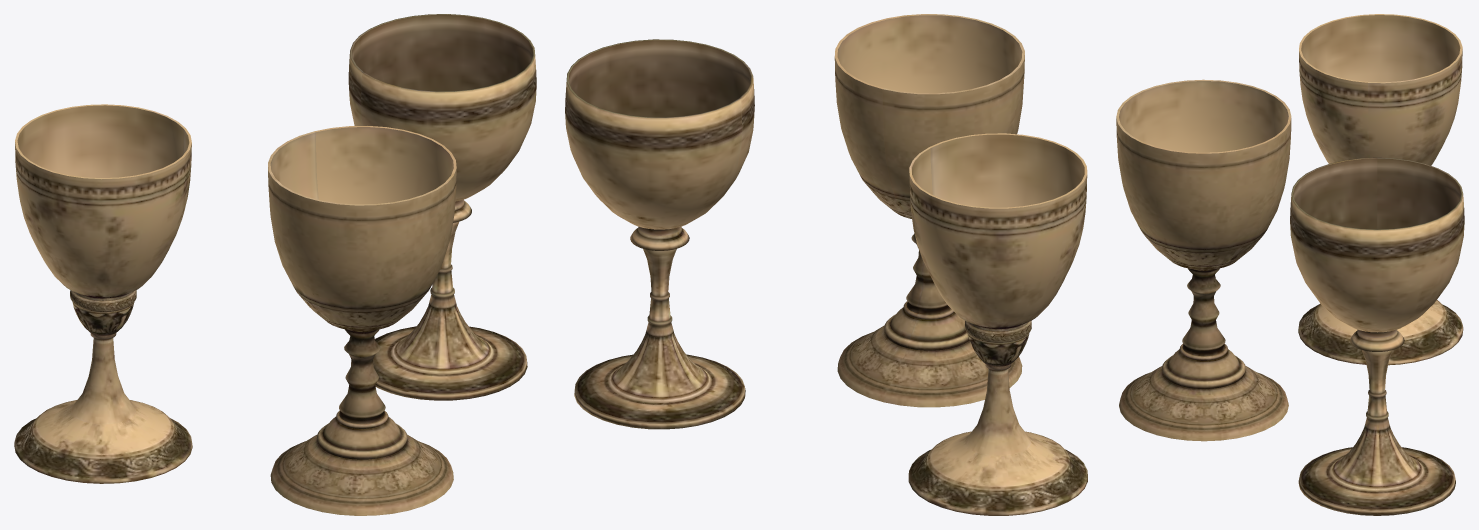
The model's file is brass_goblets.glb.
The picture shows the model from 3 angles, left to right: view 1: azimuth 30°, elevation 25°; view 2: azimuth 150°, elevation 25°; view 3: azimuth 270°, elevation 25°; orthographic projection. The views are drawn at different scales.
Parts seen in each view (by area): view 1: brass_goblet_01, brass_goblet_02, brass_goblet_03; view 2: brass_goblet_02, brass_goblet_03, brass_goblet_01; view 3: brass_goblet_01, brass_goblet_03, brass_goblet_02.
Part boxes in pixels (box(x1,y1,x2,y2)): brass_goblet_01: box(268, 126, 456, 515); brass_goblet_02: box(14, 104, 192, 483); brass_goblet_03: box(348, 14, 536, 400); brass_goblet_02: box(908, 133, 1087, 515); brass_goblet_03: box(565, 39, 754, 429); brass_goblet_01: box(834, 14, 1024, 407); brass_goblet_01: box(1116, 79, 1291, 441); brass_goblet_03: box(1290, 157, 1464, 515); brass_goblet_02: box(1298, 14, 1463, 365).
Size of the model in its own units: 0.4534 by 0.2734 by 0.2976.
3 materials, 3 textured.
